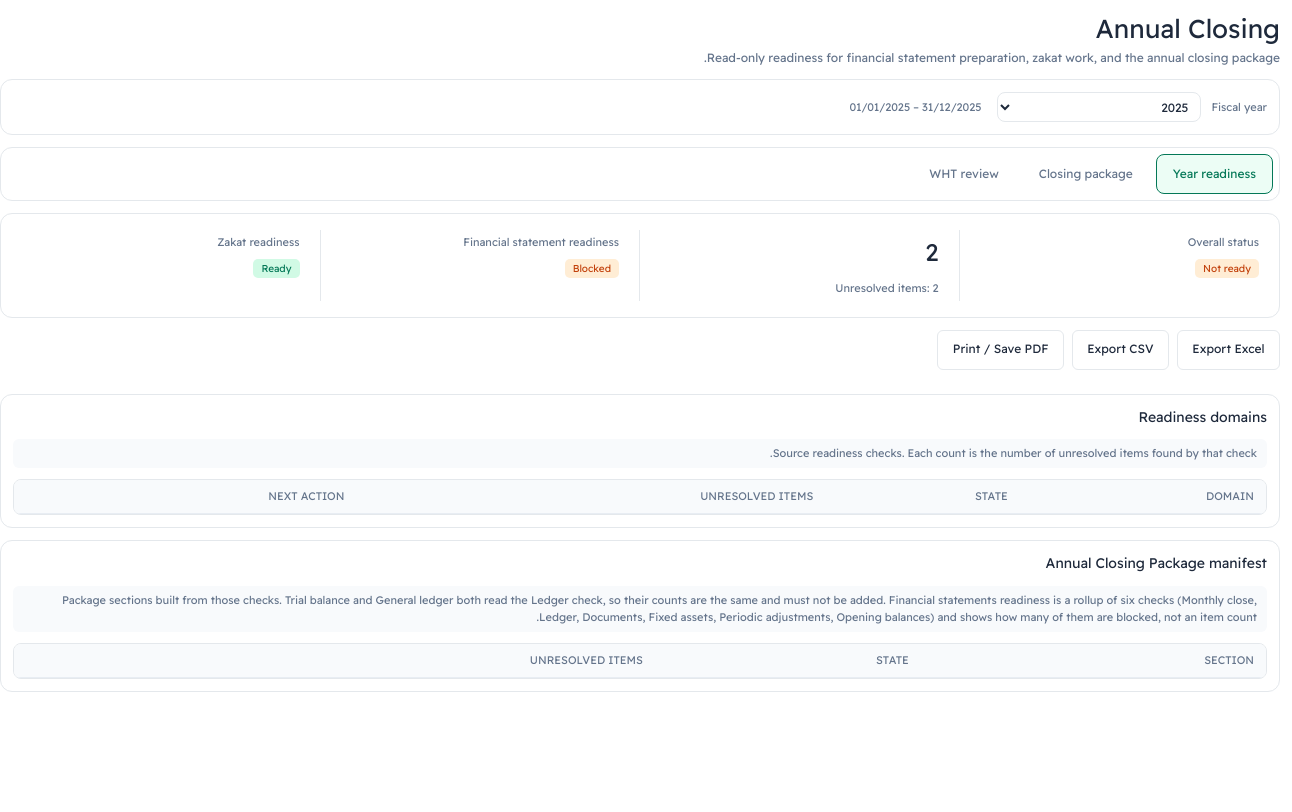
Test: Annual Closing Center › shows only English actionable blockers when finalization fails in English
Step 1. Click the tab "Closing package" → (1086, 174), box [1022,154,1150,194]
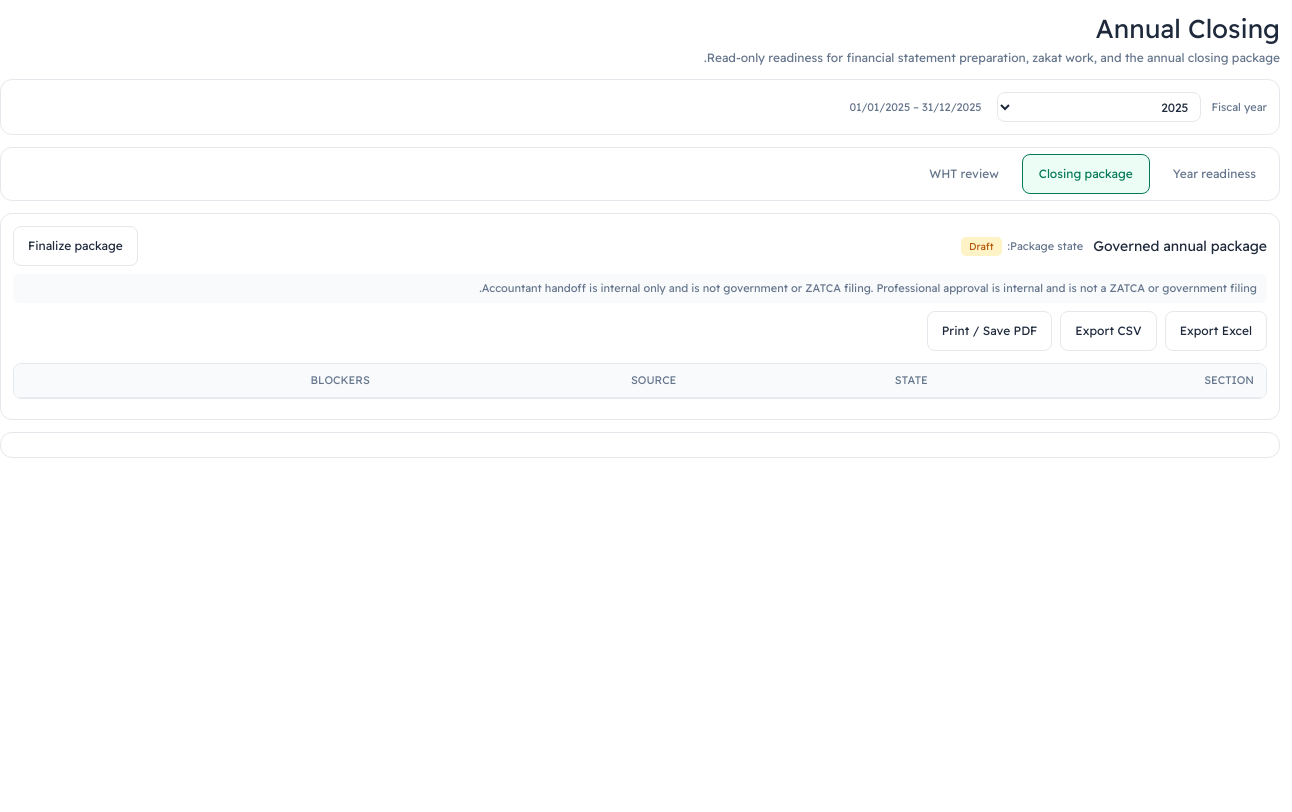
Step 2. Click the button "Finalize package" → (75, 246), box [13,226,138,266]
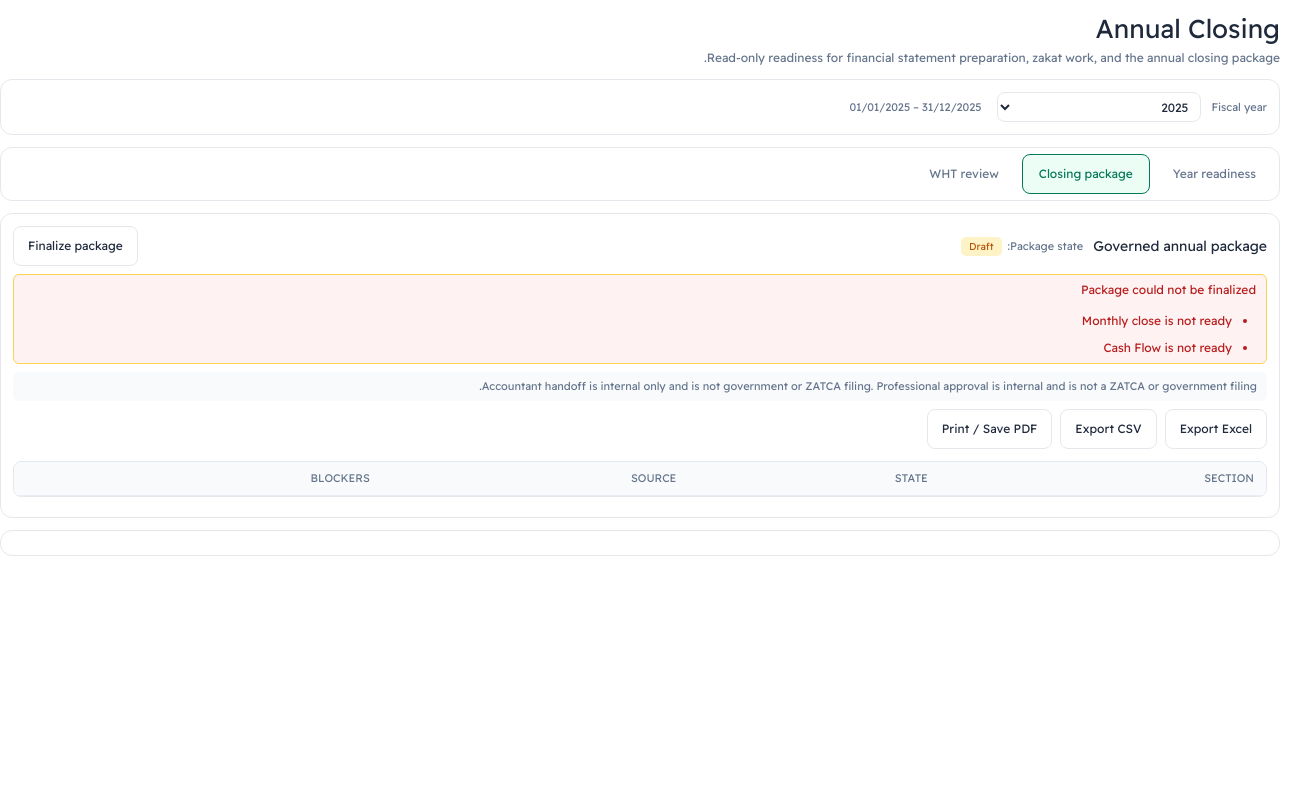
Now the text "Package could not be finalized" is shown, box [1081,282,1256,297]
Now the number of list items is 2, box [1082,313,1232,328]; [1104,340,1232,355]
Now the list item "Monthly close is not ready" is shown, box [1082,313,1232,328]
